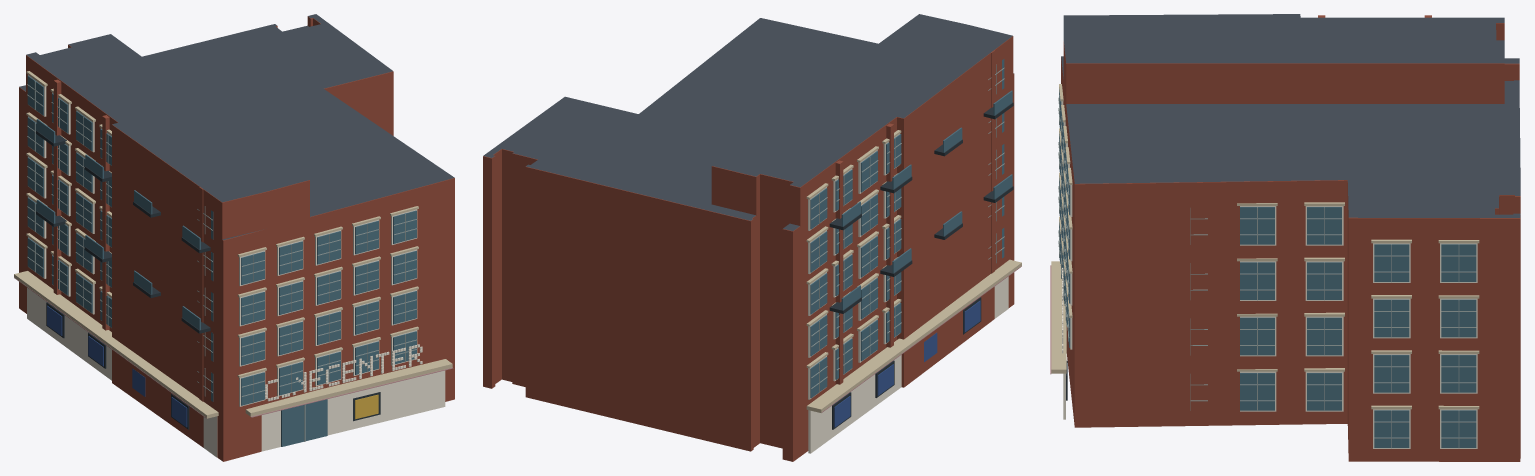
The model's file is cinecenter.glb.
The picture shows the model from 3 angles, left to right: view 1: azimuth 30°, elevation 25°; view 2: azimuth 150°, elevation 25°; view 3: azimuth 270°, elevation 25°; orthographic projection. The views are drawn at different scales.
Parts seen in each view (by area): view 1: cinecenter; view 2: cinecenter; view 3: cinecenter.
Part boxes in pixels (x1=…): cinecenter: x1=14, y1=14, x2=454, y2=461; cinecenter: x1=483, y1=14, x2=1021, y2=461; cinecenter: x1=1050, y1=14, x2=1520, y2=461.
Size of the model in its own units: 26.34 by 20.58 by 30.84.
